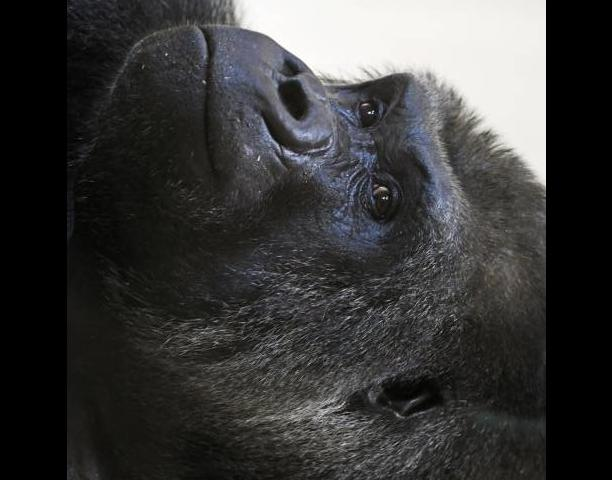gorille_Autres: (66, 0, 544, 480)
